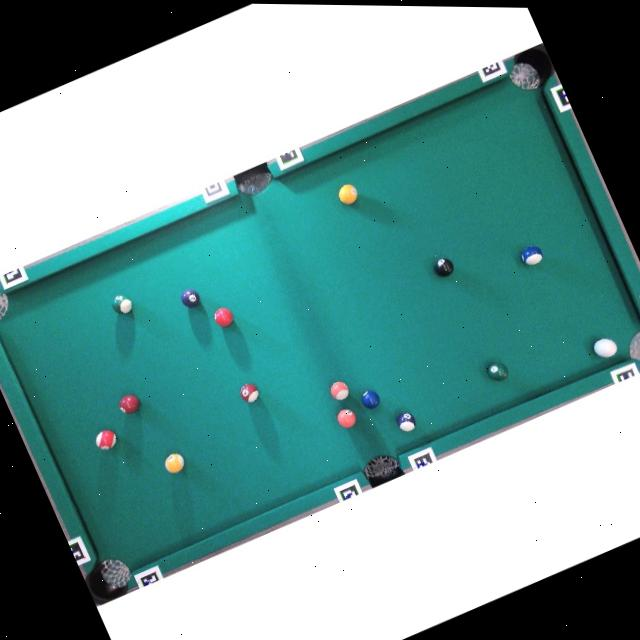cue ball: (591, 333, 621, 363)
other: (484, 357, 512, 385), (518, 242, 546, 269), (92, 426, 120, 453), (394, 408, 420, 435), (335, 180, 361, 207), (358, 386, 384, 412), (116, 391, 142, 417), (162, 450, 188, 475), (110, 292, 135, 318), (432, 254, 457, 279), (211, 304, 236, 329), (237, 380, 262, 405), (334, 405, 358, 431), (179, 286, 203, 311), (328, 378, 352, 403)
